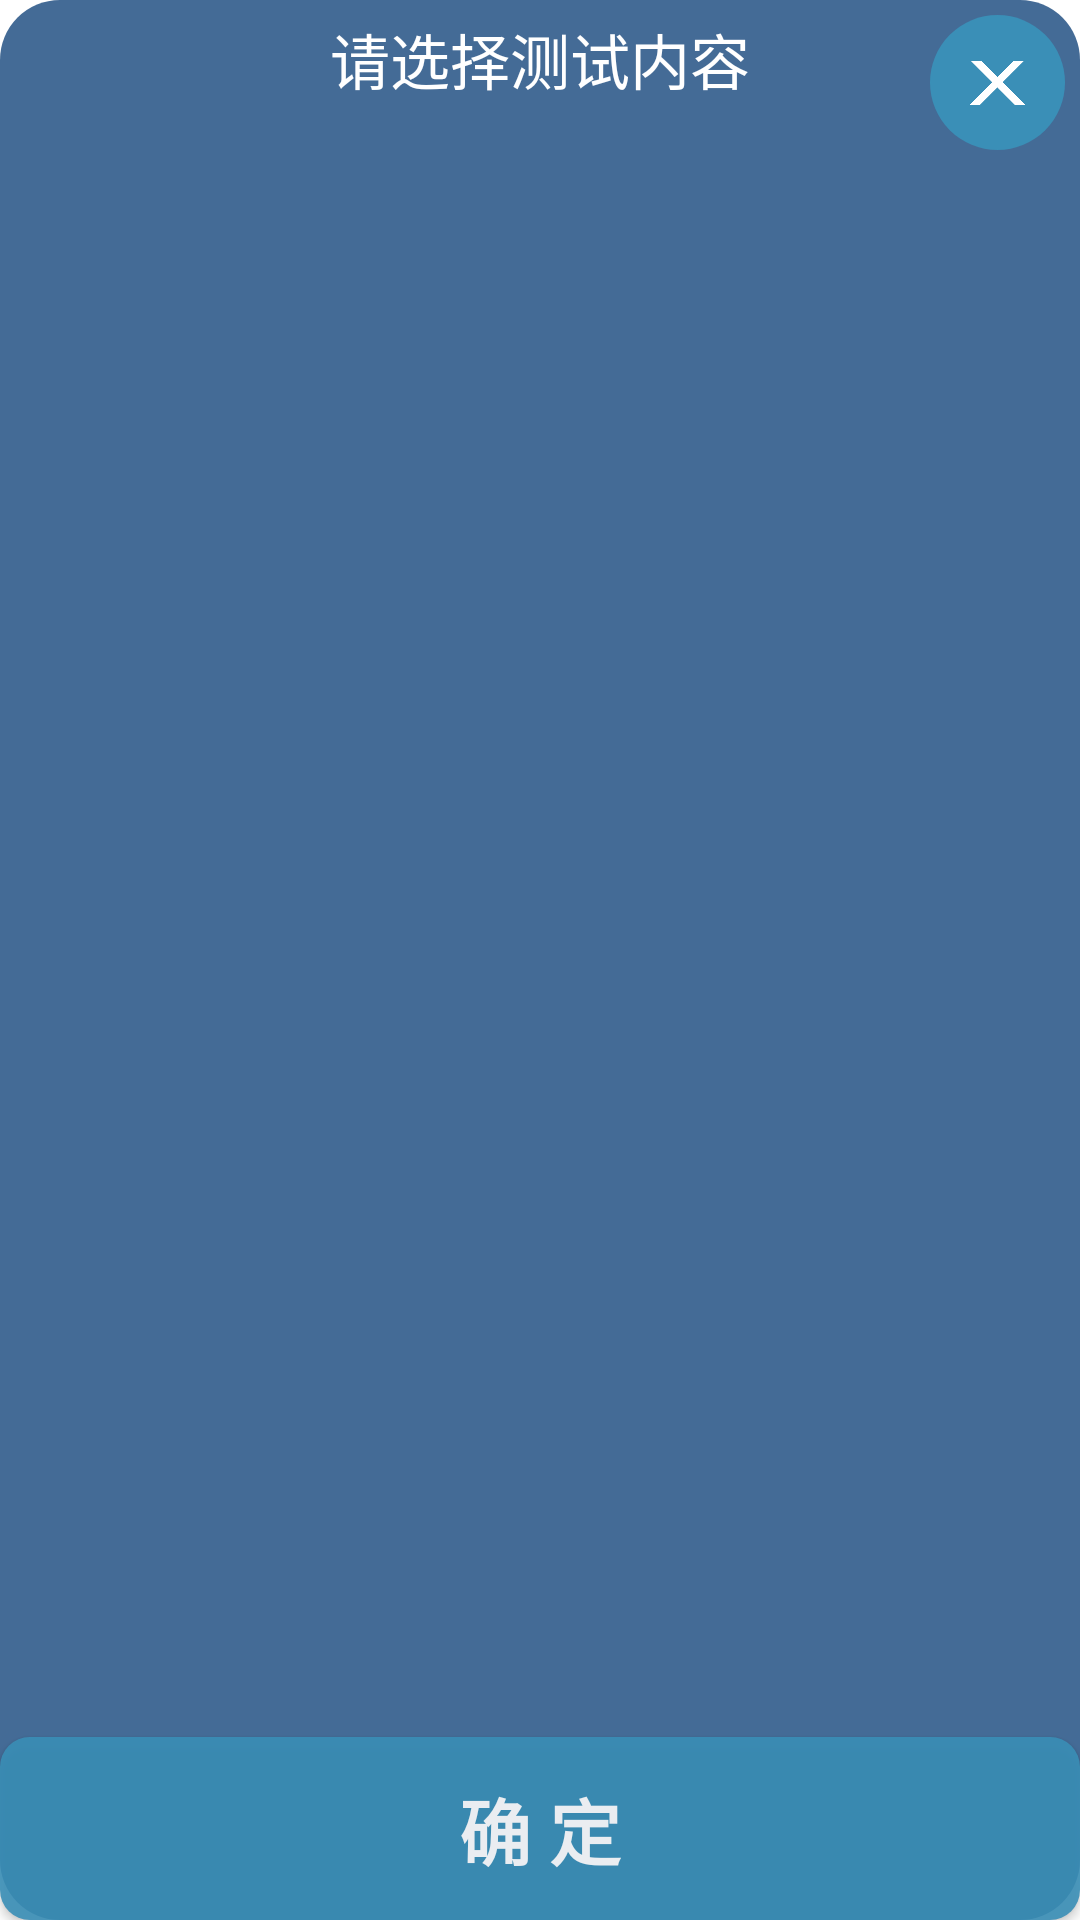

Point at icon controls on the screen. Image size 1080*1920, points as [x,y].
exit: [997,82]
